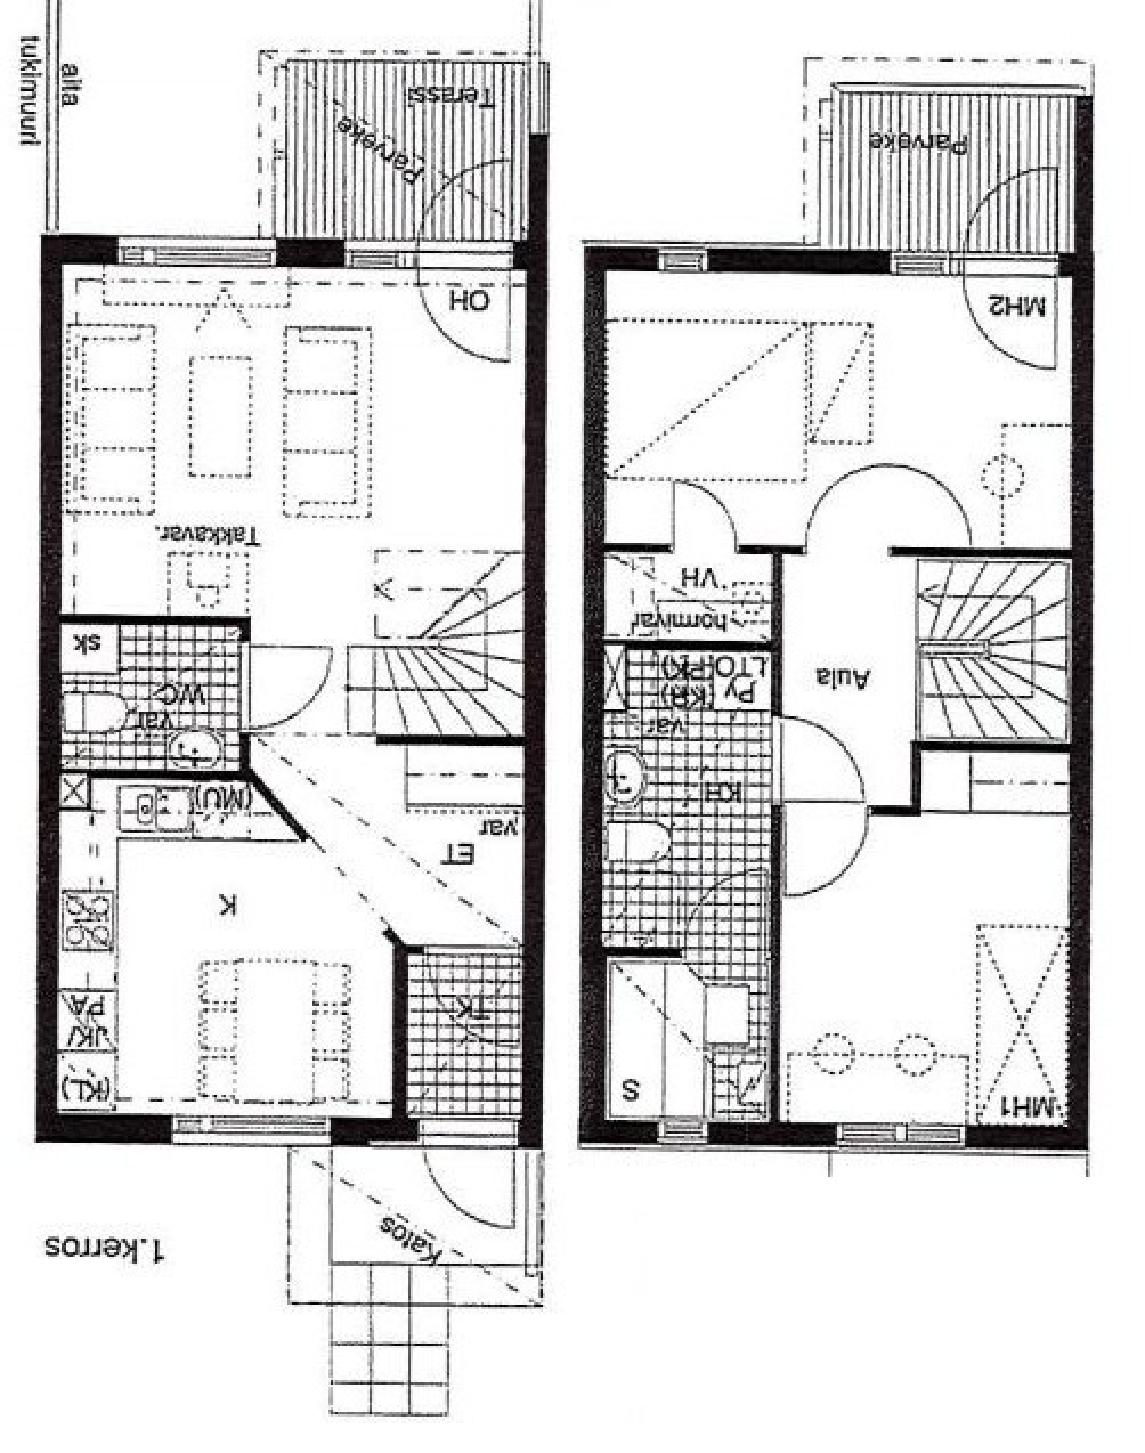door: (62, 264, 526, 1112), (603, 268, 1077, 809), (55, 777, 403, 1116), (777, 750, 1068, 1120), (244, 731, 527, 949), (603, 645, 765, 952), (601, 951, 763, 1119), (61, 626, 246, 772), (404, 948, 522, 1115), (605, 548, 774, 645)
window: (422, 1116, 524, 1232), (960, 254, 1058, 373), (415, 254, 513, 366), (776, 806, 871, 900), (771, 717, 871, 804), (236, 640, 333, 729), (686, 866, 769, 944), (669, 476, 741, 554)
zone: (170, 1115, 334, 1149), (837, 1123, 965, 1148), (121, 248, 281, 267), (887, 239, 954, 272), (656, 1113, 709, 1143), (347, 243, 404, 269), (660, 246, 708, 268)
